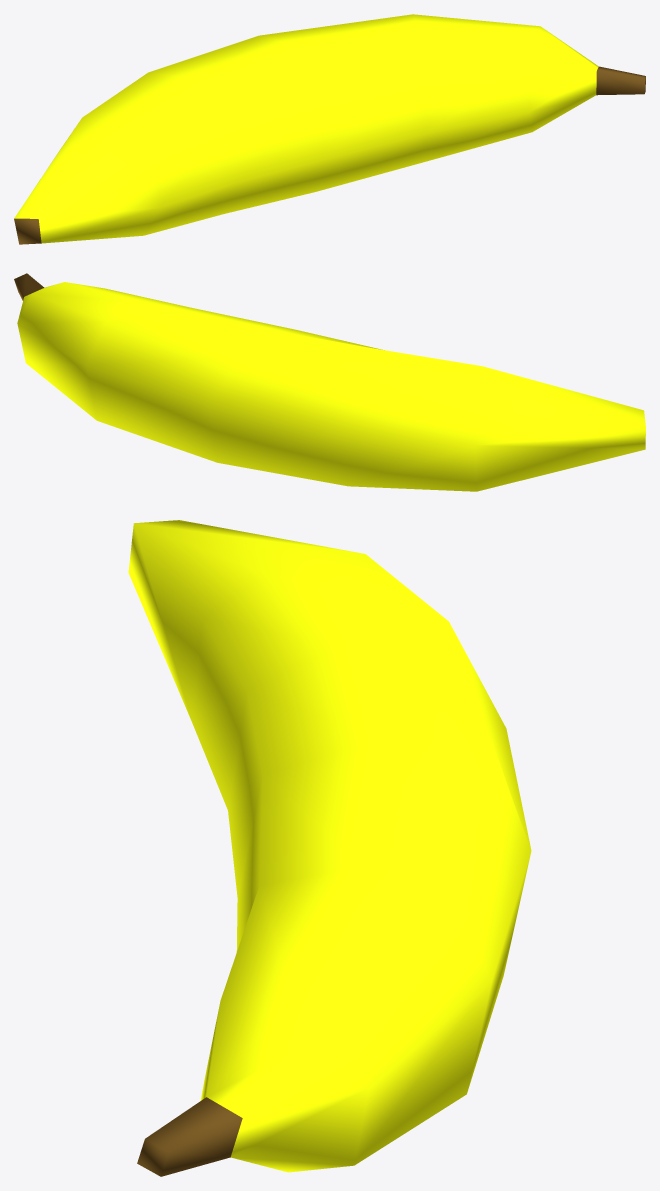
File: Banana.glb
The picture shows the model from 3 angles, top to bottom: view 1: azimuth 30°, elevation 25°; view 2: azimuth 150°, elevation 25°; view 3: azimuth 270°, elevation 25°; orthographic projection. The views are drawn at different scales.
Parts seen in each view (by area): view 1: BananaSingle; view 2: BananaSingle; view 3: BananaSingle.
Part boxes in pixels (x1,y1,x2,y2): BananaSingle: (14, 14, 645, 244); BananaSingle: (14, 273, 645, 491); BananaSingle: (128, 520, 531, 1176).
Bounding box in the file's own units: 0.3614 × 0.0741 × 0.1002.
1 material, 1 textured.
